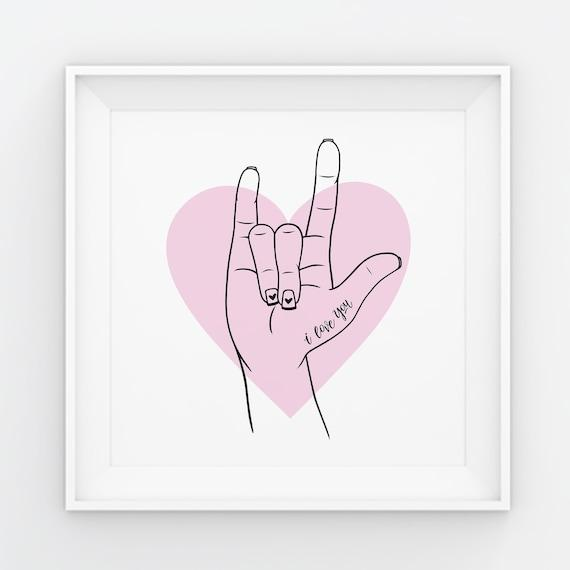Love_you: (216, 134, 407, 448)
